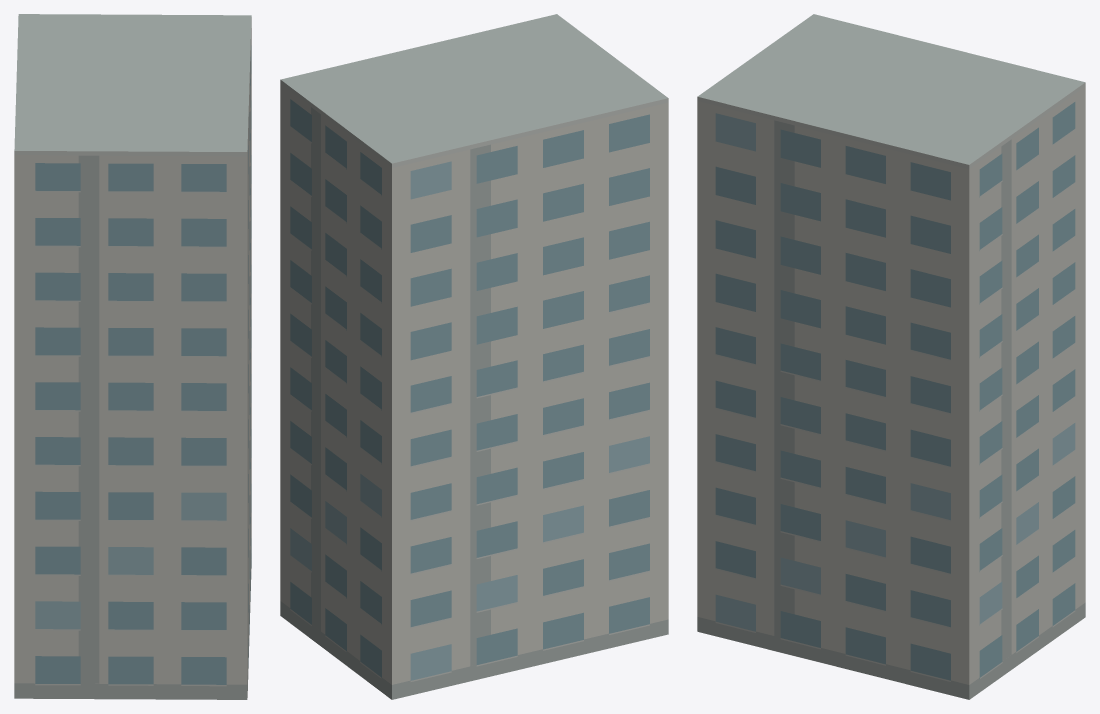
Rendered from residential-7053b99a-7fc4-4e2e-bdbe-1c49121fb378.glb.
3 renders of one model, left to right at view 1: azimuth 30°, elevation 25°; view 2: azimuth 150°, elevation 25°; view 3: azimuth 270°, elevation 25°, orthographic. The views are drawn at different scales.
Visible parts, largest first — view 1: residential-7053b99a-7fc4-4e2e-bdbe-1c49121fb378.tmp; view 2: residential-7053b99a-7fc4-4e2e-bdbe-1c49121fb378.tmp; view 3: residential-7053b99a-7fc4-4e2e-bdbe-1c49121fb378.tmp.
Part boxes in pixels (<box>): residential-7053b99a-7fc4-4e2e-bdbe-1c49121fb378.tmp: <box>14,14,251,699</box>; residential-7053b99a-7fc4-4e2e-bdbe-1c49121fb378.tmp: <box>280,14,668,699</box>; residential-7053b99a-7fc4-4e2e-bdbe-1c49121fb378.tmp: <box>697,14,1085,699</box>.
Bounding box in the file's own units: 18.16 × 30 × 19.74.
